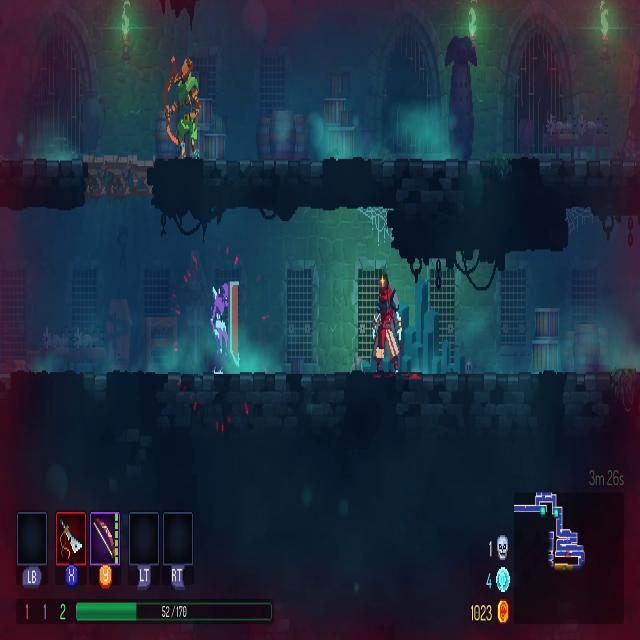agents: (369, 272, 404, 378)
enemy_archer: (162, 54, 203, 161)
enemy_purple_shield: (208, 277, 242, 377)
